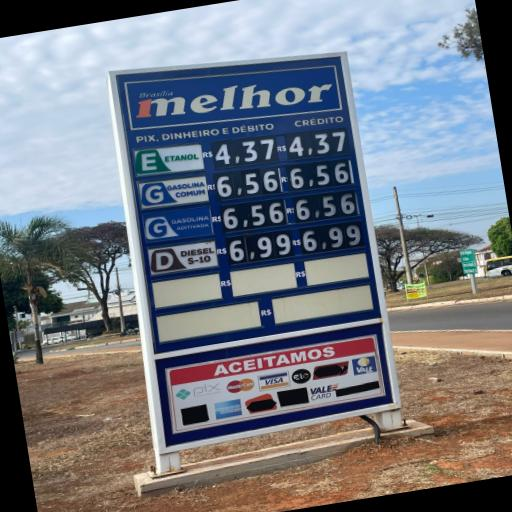ETANOL: (132, 145, 203, 174)
GASOLINA AD: (142, 209, 219, 240)
GASOLINA C: (137, 174, 208, 206)
S10: (149, 239, 219, 271)
placa: (116, 58, 374, 282)
preco: (211, 167, 283, 201), (220, 198, 288, 232), (228, 230, 293, 265), (213, 135, 278, 165)
